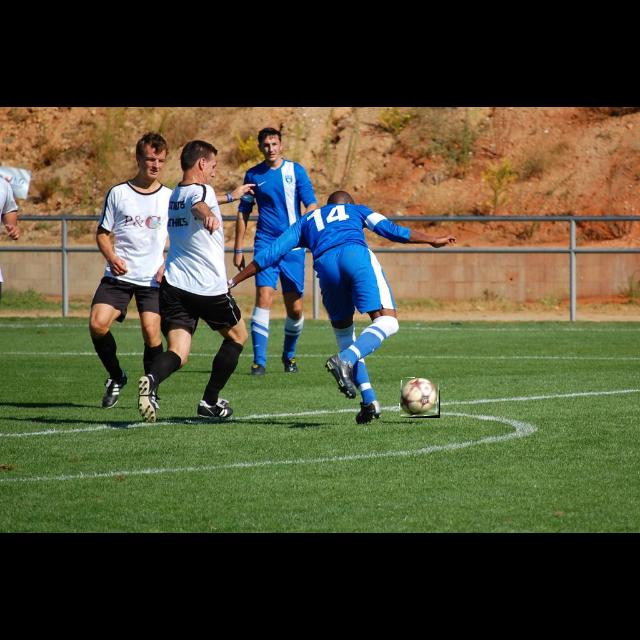Football: (400, 378, 440, 418)
